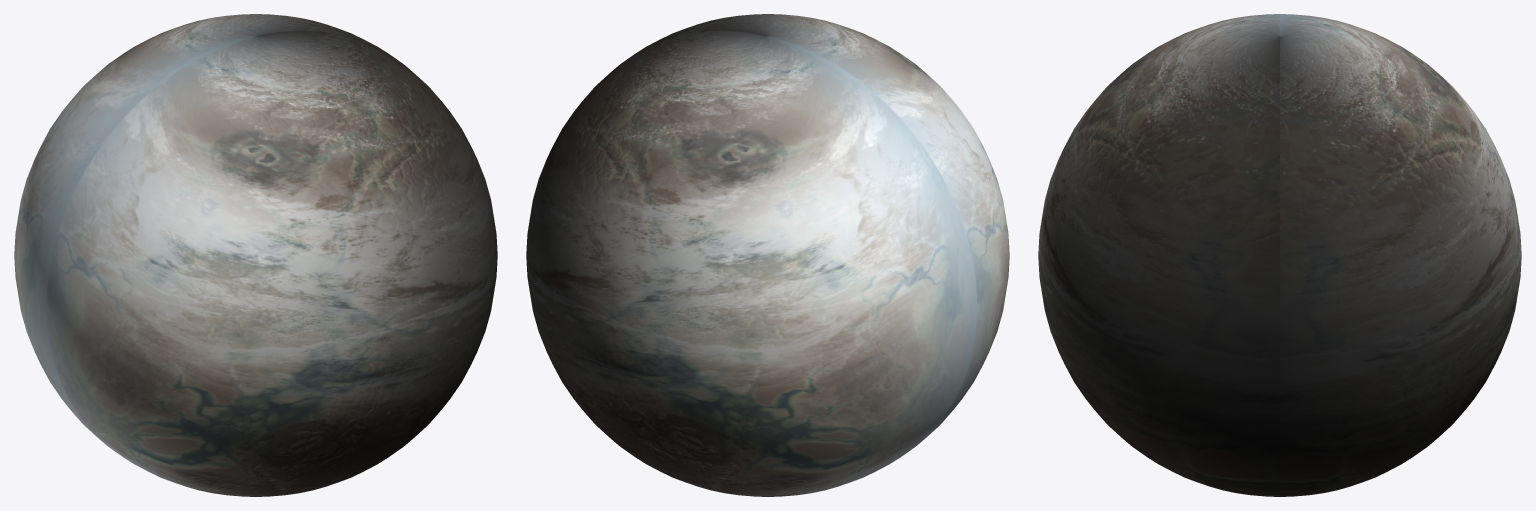
Rendered from Kepler_452b.glb.
The picture shows the model from 3 angles, left to right: view 1: azimuth 30°, elevation 25°; view 2: azimuth 150°, elevation 25°; view 3: azimuth 270°, elevation 25°; orthographic projection.
Visible parts, largest first — view 1: Kepler_452b; view 2: Kepler_452b; view 3: Kepler_452b.
Boxes of the visible parts, left/top/right/bottom form: Kepler_452b: left=14, top=14, right=497, bottom=496; Kepler_452b: left=526, top=14, right=1009, bottom=496; Kepler_452b: left=1038, top=14, right=1521, bottom=496.
Size of the model in its own units: 8 by 8 by 8.
Materials: 1 (1 with a texture image).
